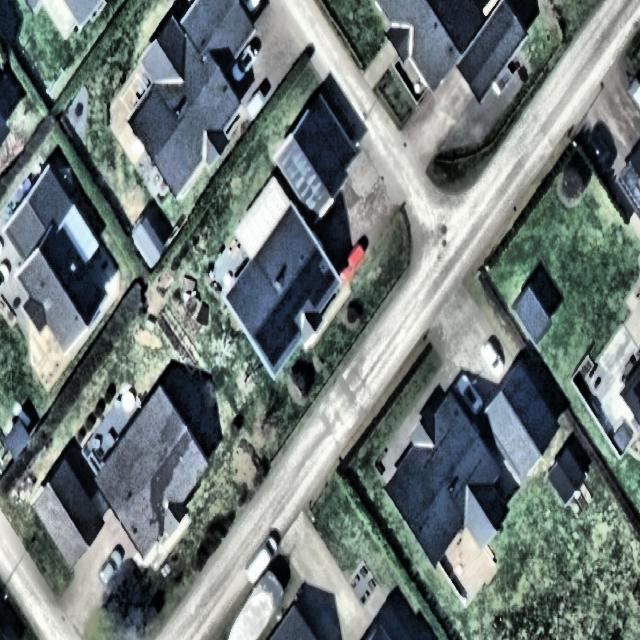roof_pv: (253, 290, 291, 368), (280, 146, 321, 207), (310, 246, 336, 308), (291, 261, 310, 308)
